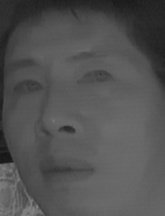eye: (78, 65, 117, 90), (12, 77, 45, 98)
mouth: (35, 150, 98, 188)
